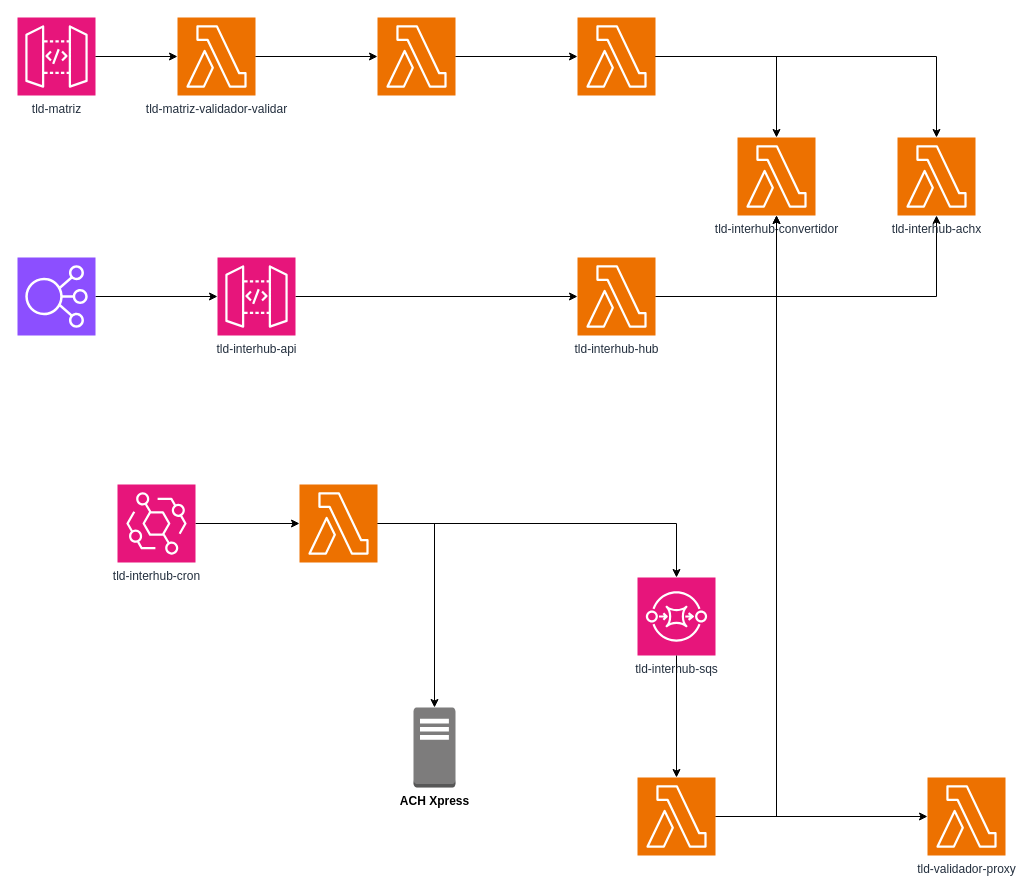
The diagram is 1033 pixels wide and 894 high, and some of its shapes have lost their labels. The centre of each missing label's shape, as x and y in pixels:
"ALB" goes at (56,296).
"tld-interhub-banco" goes at (616,56).
"tld-interhub-poller" goes at (338,523).
"tld-interhub-sqs-worker" goes at (676,816).
"tld-validador-validar" goes at (416,56).
